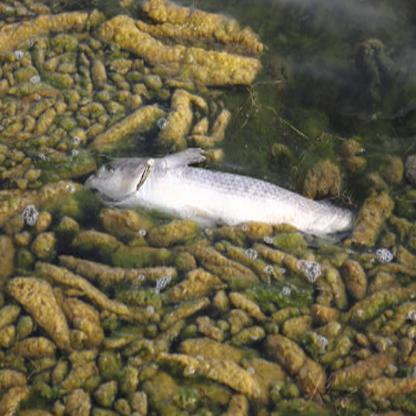deceased fish: (91, 140, 381, 236)
